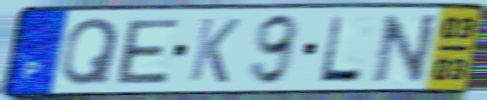9: (244, 12, 303, 88)
E: (115, 16, 183, 86)
K: (185, 15, 244, 86)
L: (315, 13, 366, 84)
N: (370, 11, 442, 85)
Q: (58, 16, 122, 89)
